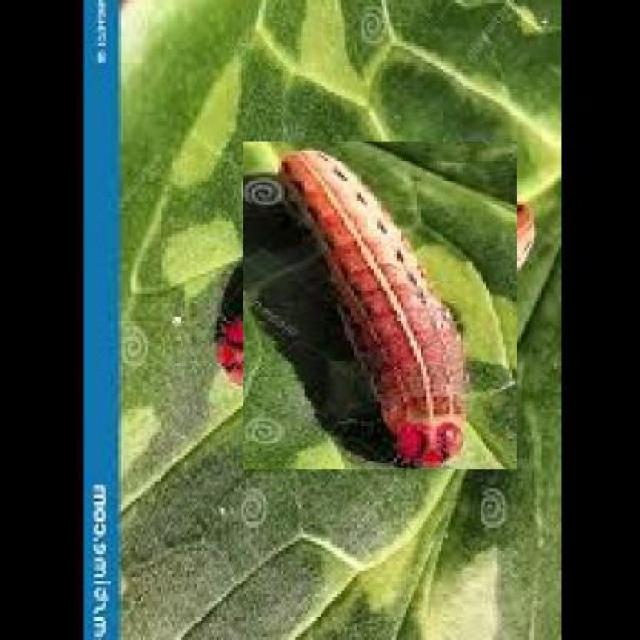Plaga: (230, 154, 533, 457)
